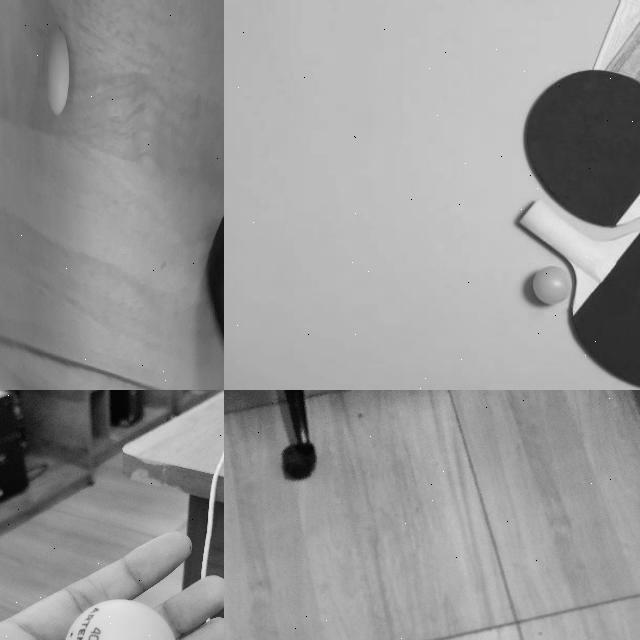ping-pong-ball: (59, 599, 176, 639), (44, 24, 69, 112), (531, 268, 569, 304)
